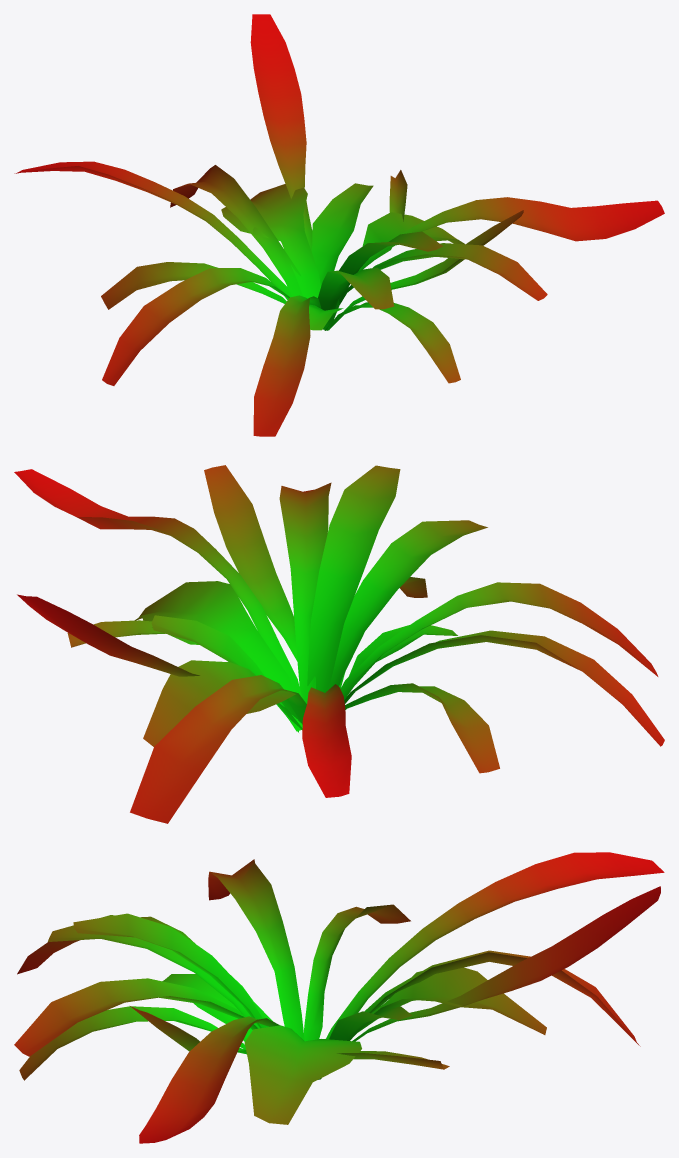
Rendered from Var5_LOD0.fbx.
3 views of the same model, one above another, from view 1: azimuth 30°, elevation 25°; view 2: azimuth 150°, elevation 25°; view 3: azimuth 270°, elevation 25° (orthographic). The views are drawn at different scales.
Visible parts, largest first — view 1: Var5_LOD0; view 2: Var5_LOD0; view 3: Var5_LOD0.
Part boxes in pixels (x1,y1,x2,y2): Var5_LOD0: [14, 14, 664, 436]; Var5_LOD0: [14, 465, 664, 823]; Var5_LOD0: [14, 852, 664, 1143].
Size of the model in its own units: 41.78 by 14.13 by 34.75.
